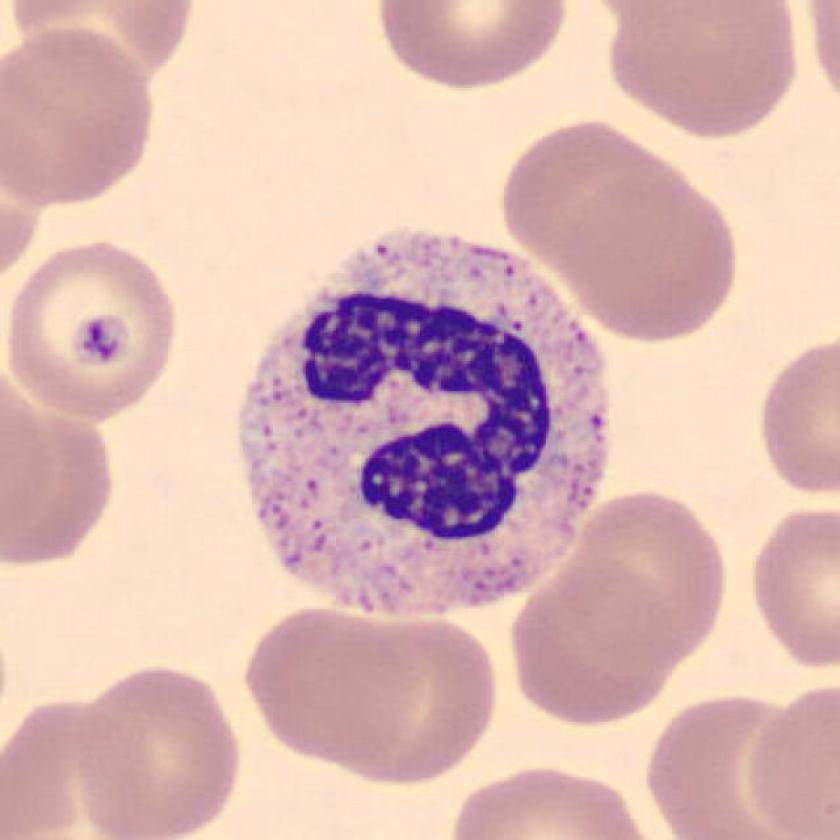neutrophil: (241, 227, 613, 618)
